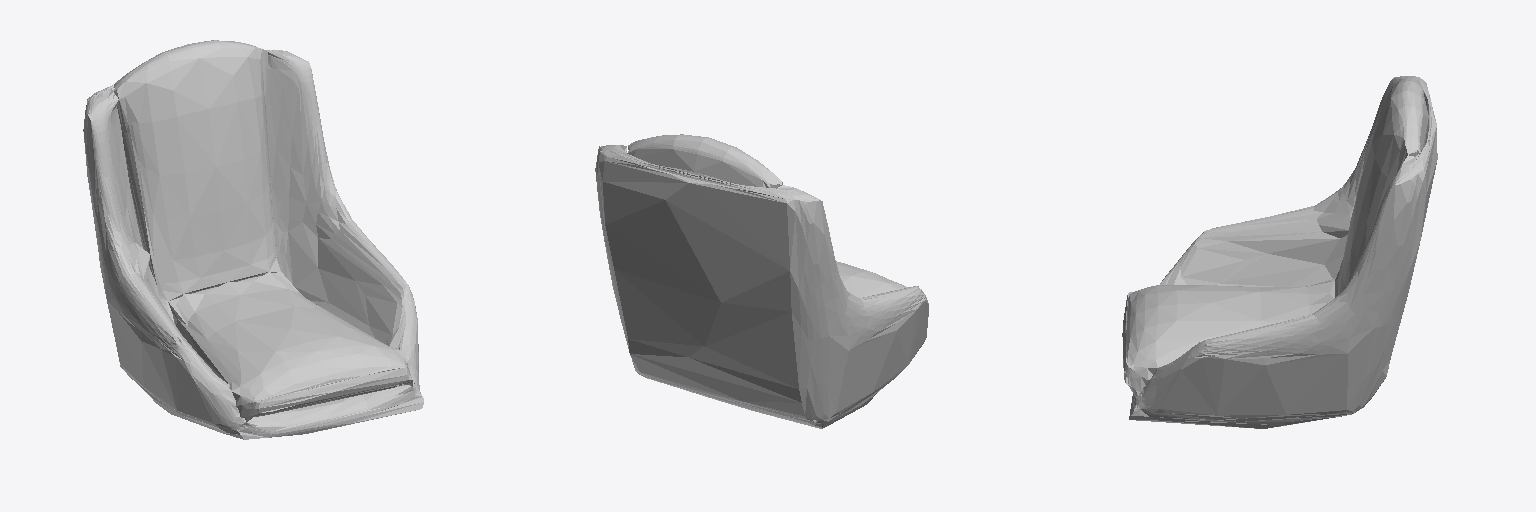
The model's file is chair4.obj.
3 views of the same model, side by side, from view 1: azimuth 30°, elevation 25°; view 2: azimuth 150°, elevation 25°; view 3: azimuth 270°, elevation 25° (orthographic).
Parts seen in each view (by area): view 1: Armchair4:Mesh; view 2: Armchair4:Mesh; view 3: Armchair4:Mesh.
Part boxes in pixels (x1,y1,x2,y2): Armchair4:Mesh: (83,40,423,439); Armchair4:Mesh: (595,134,928,428); Armchair4:Mesh: (1122,76,1437,428).
Size of the model in its own units: 0.3955 by 0.5074 by 0.4407.